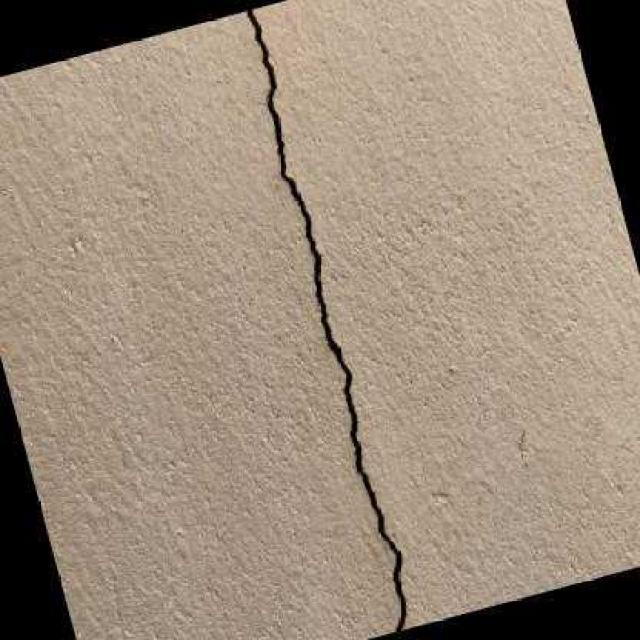D00: (244, 7, 405, 632)
